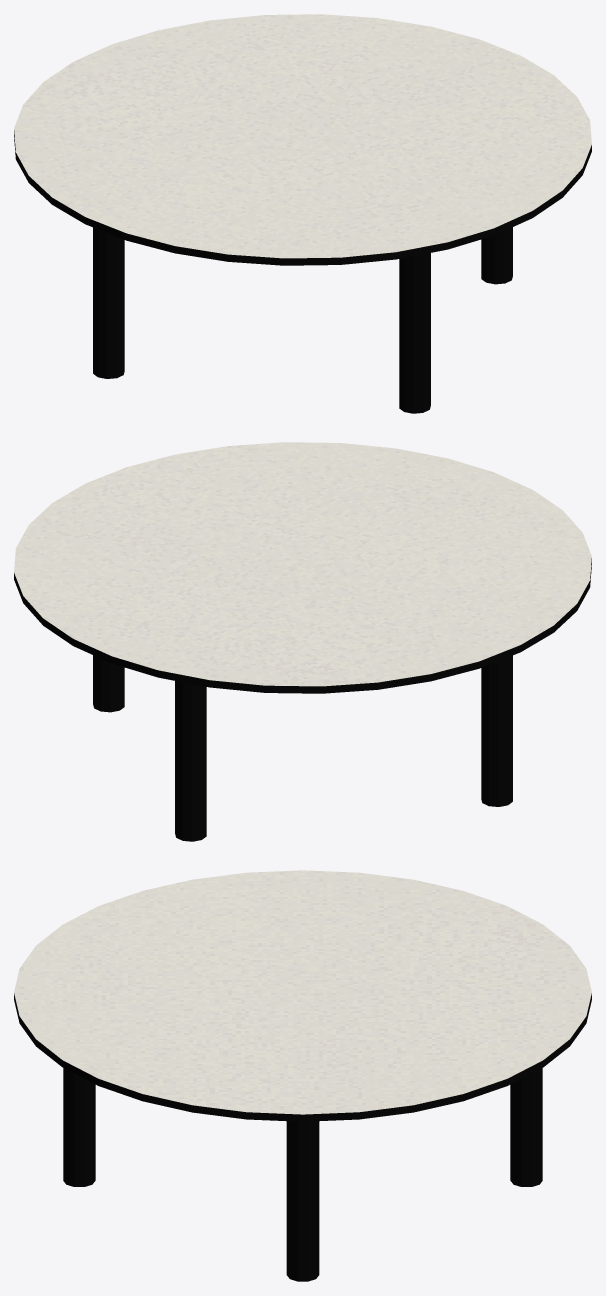
Rendered from breakroom_table.glb.
The picture shows the model from 3 angles, top to bottom: view 1: azimuth 30°, elevation 25°; view 2: azimuth 150°, elevation 25°; view 3: azimuth 270°, elevation 25°; orthographic projection.
Parts seen in each view (by area): view 1: Cylinder, Cylinder.001, Cylinder.003, Cylinder.002; view 2: Cylinder, Cylinder.004, Cylinder.003, Cylinder.002; view 3: Cylinder, Cylinder.002, Cylinder.001, Cylinder.004.
Part boxes in pixels (box(x1,y1,x2,y2)): Cylinder: box(14, 14, 591, 265); Cylinder.001: box(399, 253, 430, 413); Cylinder.003: box(93, 227, 124, 378); Cylinder.002: box(481, 227, 512, 284); Cylinder: box(14, 442, 591, 693); Cylinder.004: box(175, 681, 206, 841); Cylinder.003: box(481, 655, 512, 806); Cylinder.002: box(93, 655, 124, 712); Cylinder: box(14, 870, 591, 1121); Cylinder.002: box(286, 1121, 319, 1281); Cylinder.001: box(63, 1068, 95, 1186); Cylinder.004: box(510, 1068, 542, 1186).
Size of the model in its own units: 1.83 by 0.657 by 1.83.
2 materials, 1 textured.
